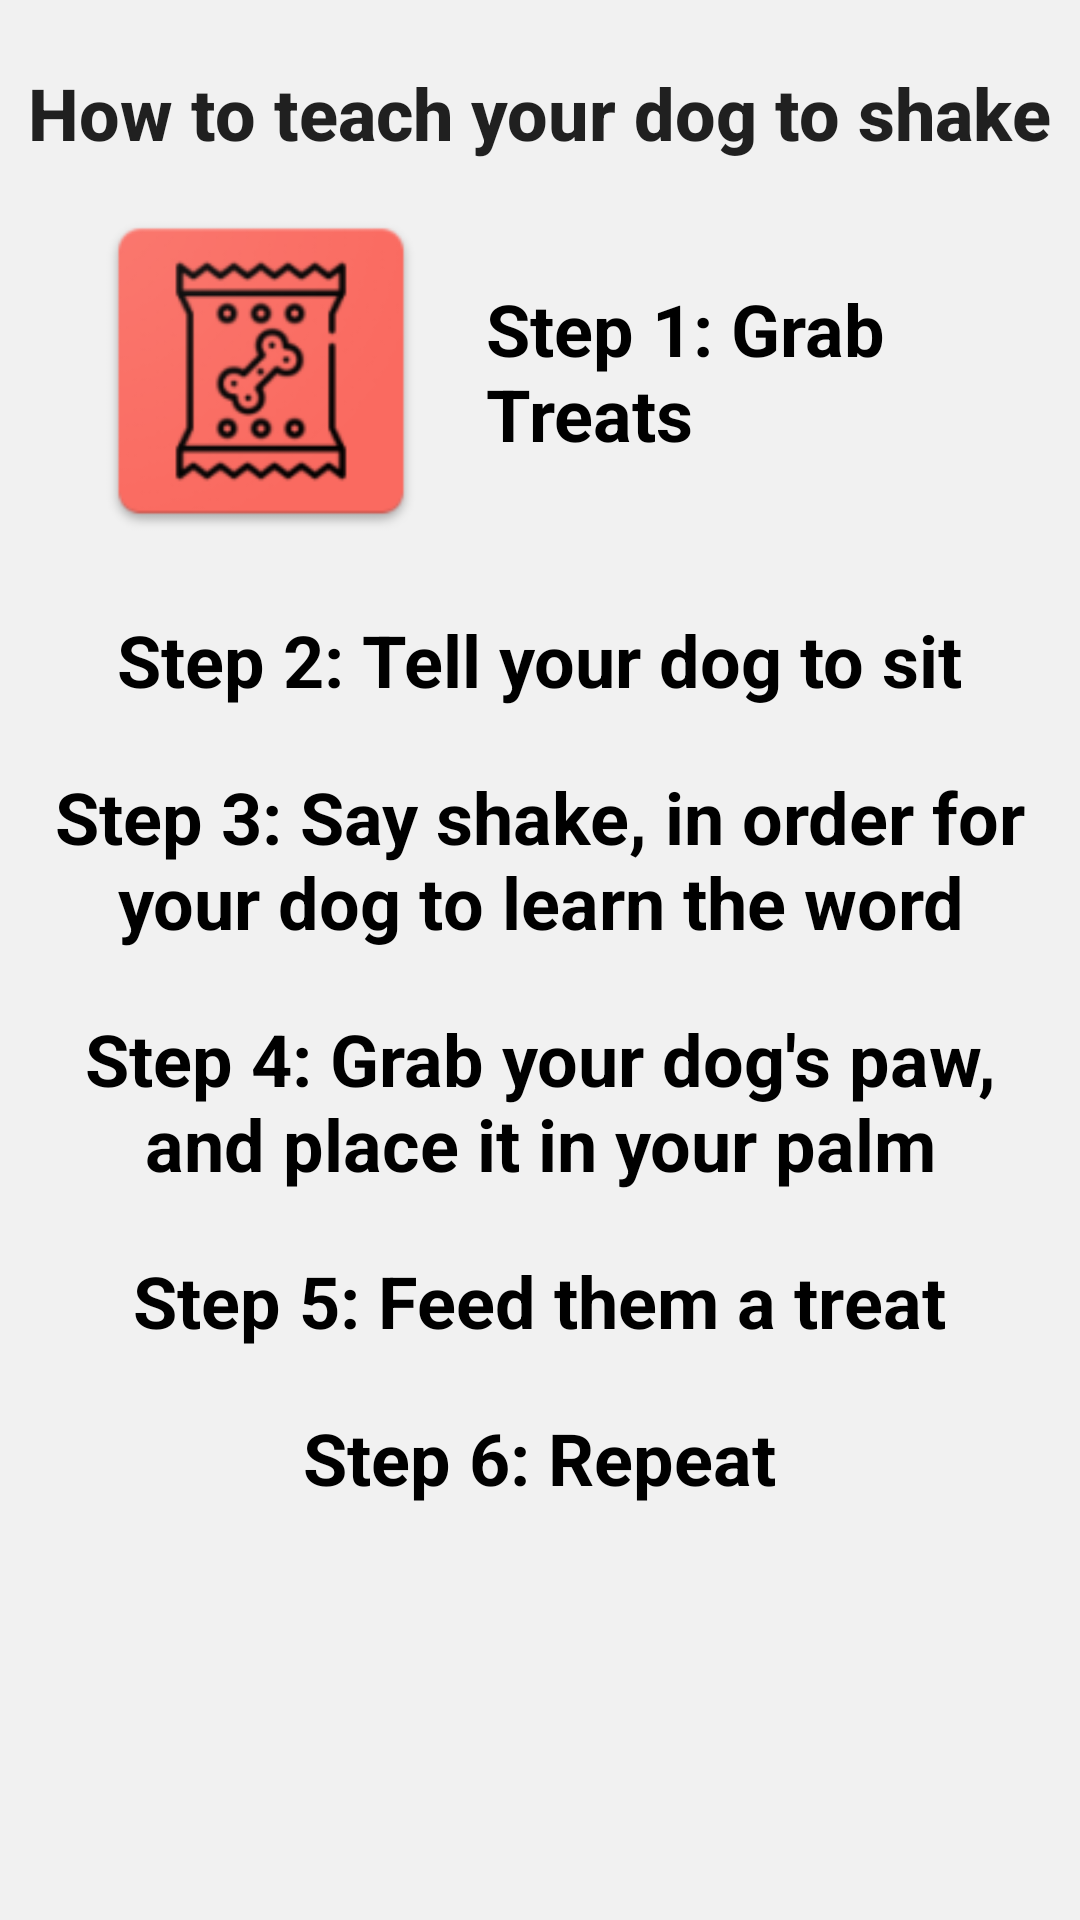

Locate icon controls on the screen. Image size 1080*1920, boxes as (x1, y1, x2, y2).
snack: (116, 228, 406, 521)
